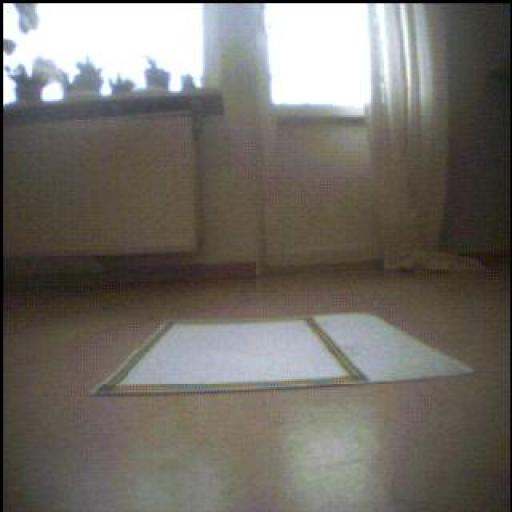Pad: (94, 315, 471, 396)
